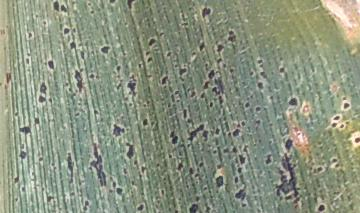tarspot: (273, 152, 303, 210), (86, 139, 110, 189), (184, 122, 210, 143), (63, 148, 78, 181), (68, 67, 86, 93), (125, 72, 138, 98), (109, 123, 128, 138), (232, 186, 249, 202), (122, 140, 135, 160), (225, 28, 238, 45), (282, 135, 296, 150), (213, 173, 226, 189), (168, 129, 180, 146), (61, 21, 72, 39), (286, 95, 301, 108), (37, 79, 49, 95), (16, 124, 33, 135), (44, 58, 57, 72), (199, 4, 212, 18), (186, 202, 200, 213), (314, 202, 328, 213), (263, 152, 274, 166), (159, 72, 169, 87), (75, 49, 87, 61), (214, 42, 226, 54), (174, 159, 186, 171), (79, 198, 91, 210), (32, 114, 43, 127), (50, 1, 61, 14), (196, 39, 207, 52), (176, 66, 189, 77), (341, 98, 351, 112), (201, 77, 211, 91), (180, 106, 189, 121), (139, 117, 151, 128), (125, 1, 137, 12), (202, 200, 212, 213), (254, 81, 267, 91), (59, 3, 70, 14), (313, 163, 324, 174), (4, 69, 12, 84), (100, 44, 112, 54), (146, 36, 158, 46), (352, 133, 360, 148), (238, 156, 250, 166), (35, 95, 48, 104), (16, 151, 29, 160), (277, 64, 286, 77), (43, 193, 57, 201), (11, 173, 21, 184), (21, 56, 32, 66), (242, 100, 252, 111), (214, 160, 225, 170), (187, 89, 198, 99), (67, 41, 79, 50), (120, 166, 132, 175), (255, 56, 264, 68), (230, 143, 239, 155), (116, 79, 123, 94), (233, 126, 241, 139), (164, 48, 174, 58), (138, 162, 148, 172), (154, 160, 164, 170), (117, 188, 128, 197), (220, 145, 229, 156), (172, 88, 183, 97), (165, 100, 174, 111), (92, 106, 100, 118), (179, 19, 191, 27), (213, 125, 221, 137), (134, 203, 147, 210), (36, 155, 46, 164), (19, 184, 29, 193), (247, 68, 256, 78), (240, 142, 250, 151), (214, 54, 224, 63), (267, 92, 276, 102), (331, 155, 339, 166), (254, 117, 262, 128), (332, 113, 343, 121), (238, 202, 250, 209), (25, 30, 34, 39), (67, 188, 76, 197), (88, 72, 97, 81), (145, 55, 154, 64), (232, 175, 241, 184), (240, 118, 249, 127), (330, 121, 339, 130), (207, 100, 216, 109), (207, 69, 216, 78), (114, 63, 122, 73), (87, 9, 97, 17), (339, 122, 347, 132), (200, 91, 208, 101), (203, 60, 211, 70), (188, 164, 195, 175), (165, 151, 176, 158), (74, 110, 82, 119), (156, 29, 165, 37), (136, 62, 144, 71), (193, 193, 201, 202), (253, 105, 262, 113), (197, 160, 205, 169), (209, 147, 217, 156), (228, 66, 237, 74), (236, 164, 244, 173), (40, 20, 50, 27), (159, 187, 166, 197), (12, 109, 21, 116), (120, 50, 129, 57), (72, 25, 79, 34), (143, 48, 151, 55), (172, 206, 180, 213), (226, 131, 234, 138), (25, 51, 34, 57), (111, 179, 117, 188), (172, 61, 179, 68), (85, 1, 93, 7), (129, 179, 136, 185), (105, 1, 118, 4)
